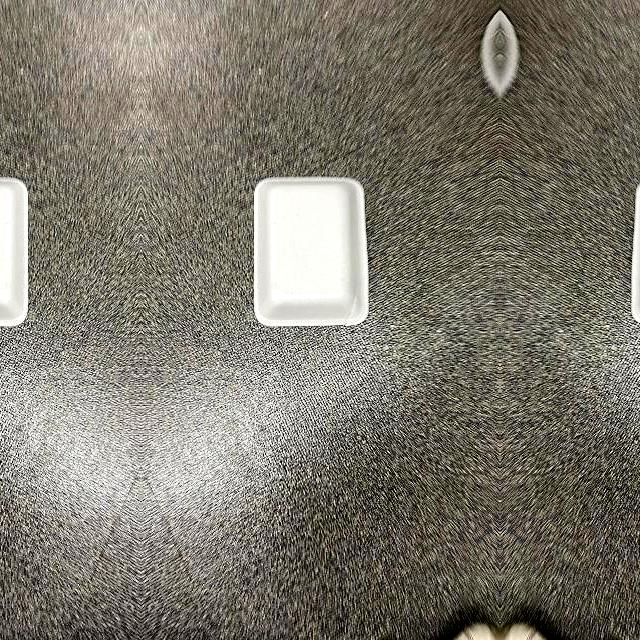Styrofoam: (253, 178, 369, 326), (253, 177, 368, 326), (0, 177, 27, 326), (0, 178, 27, 326)
